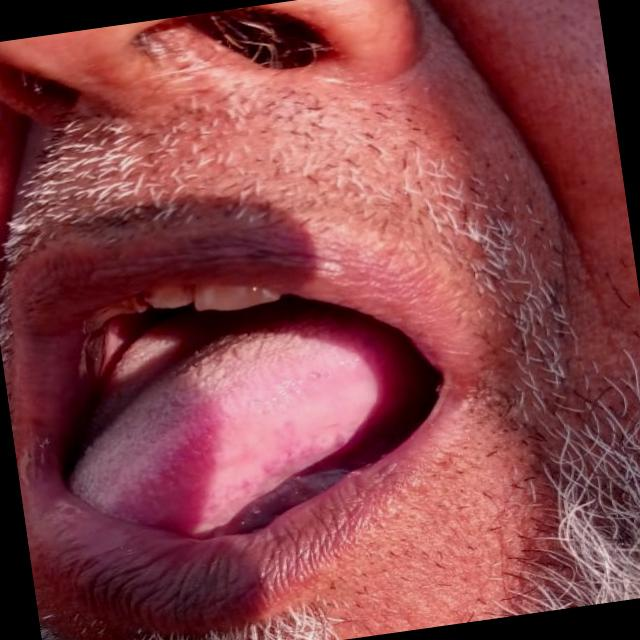No Cancer: (146, 382, 300, 482)
